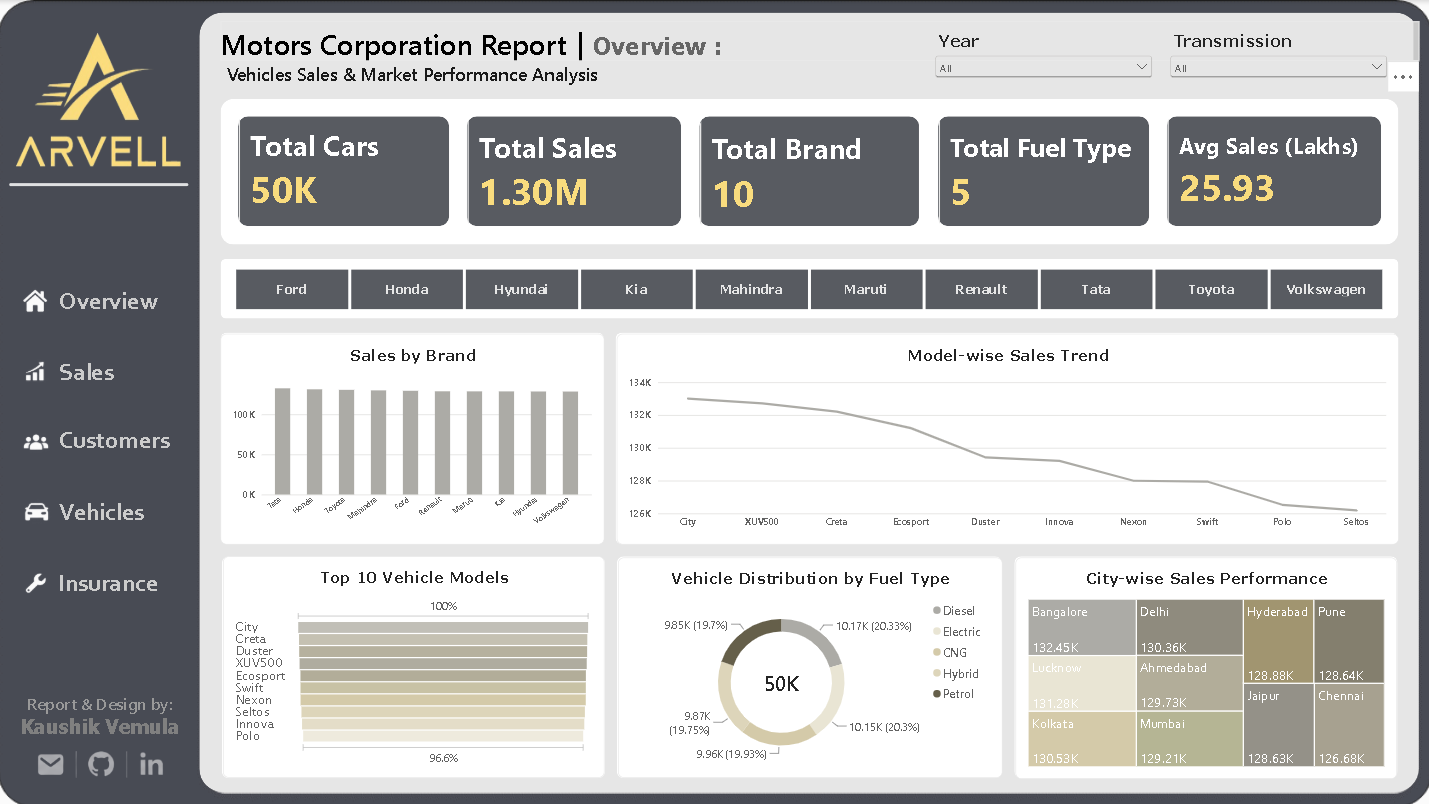

This screenshot's page, from the dashboard's own definition file:
{"tool":"powerbi","page":{"name":"Overview","canvas":[1920,1080],"ordinal":0},"visuals":[{"type":"shape","box":[269.9,17.5,1634,1044.6],"z":0},{"type":"shape","box":[297.6,132.8,1578.6,195.5],"z":1000},{"type":"shape","box":[321,156.1,283,147.4],"z":2000},{"type":"shape","box":[1565.5,156.1,287.4,147.4],"z":3000},{"type":"shape","box":[1259.1,156.1,283,147.4],"z":4000},{"type":"shape","box":[939.6,156.1,294.7,147.4],"z":5000},{"type":"shape","box":[627.4,156.1,287.4,147.4],"z":6000},{"type":"shape","box":[298.3,347.1,1578.5,80.2],"z":9000},{"type":"textbox","box":[298,28,1606,54],"z":12000},{"type":"textbox","box":[307.1,81.4,847.1,52.9],"z":13000},{"type":"image","box":[15,26.7,240,215],"z":14000},{"type":"shape","box":[15.7,191.4,240,112.9],"z":15000},{"type":"textbox","box":[16,928,240,66],"z":16000},{"type":"image","box":[16,994,240,62],"z":17000},{"type":"actionButton","box":[38.4,1004.7,66.3,40.1],"z":18000},{"type":"actionButton","box":[170.9,1004.7,66.3,40.1],"z":19000},{"type":"actionButton","box":[104.7,1004.7,66.3,40.1],"z":20000},{"type":"cardVisual","fields":{"Data":["Count(Master_Car_Data.Car_ID)"]},"box":[320.8,155.4,286.9,145.4],"z":21000},{"type":"cardVisual","fields":{"Data":["Sum(Master_Car_Data.Sale_Price_Lakh)"]},"box":[627.7,156.9,276.9,146.2],"z":22000},{"type":"cardVisual","fields":{"Data":["Count(Master_Car_Data.Brand)"]},"box":[940,158.8,293.8,146.2],"z":23000},{"type":"cardVisual","fields":{"Data":["Avg(Master_Car_Data.Sale_Price_Lakh)"]},"box":[1565.4,155.4,292.3,147.7],"z":24000},{"type":"cardVisual","fields":{"Data":["Count(Master_Car_Data.Fuel_Type)"]},"box":[1259.2,156.9,283.8,146.2],"z":25000},{"type":"textbox","box":[81.4,384.3,154.3,44.3],"z":26000},{"type":"textbox","box":[81.4,479.3,155,50],"z":27000},{"type":"textbox","box":[81.4,666.4,157.1,52.1],"z":28000},{"type":"textbox","box":[80.2,762.2,141.3,45.3],"z":29000},{"type":"textbox","box":[81.4,570,175,41.4],"z":30000},{"type":"image","box":[28.5,384.6,43.1,36.9],"z":31000},{"type":"image","box":[30.9,479.1,38.2,37.3],"z":32000},{"type":"image","box":[31,572,38,38],"z":33000},{"type":"image","box":[31.2,666.2,40,37.5],"z":34000},{"type":"image","box":[31.2,762.5,37.5,37.5],"z":35000},{"type":"actionButton","box":[30,473.3,141.7,48.3],"z":36000},{"type":"actionButton","box":[28,568,208,48],"z":37000},{"type":"actionButton","box":[28.6,661.4,175.7,48.6],"z":38000},{"type":"actionButton","box":[31.4,758.7,190.1,48.8],"z":39000},{"type":"actionButton","box":[25.7,378.6,195.7,48.6],"z":40000},{"type":"advancedSlicerVisual","fields":{"Values":["Master_Car_Data.Brand"]},"box":[298.3,360,1578.3,55],"z":41000},{"type":"slicer","fields":{"Values":["Master_Car_Data.Transmission"]},"box":[1566,42,300,66],"z":41001},{"type":"slicer","fields":{"Values":["Master_Car_Data.Year"]},"box":[1252,42,300,66],"z":41002},{"type":"shape","box":[298,446,514,282],"z":41003},{"type":"shape","box":[828,446,1048,284],"z":41004},{"type":"shape","box":[300,746,513.8,297.5],"z":41005},{"type":"shape","box":[828.6,745.7,516.2,297.5],"z":41006},{"type":"shape","box":[1361.4,745.7,513.8,297.5],"z":41007},{"type":"columnChart","title":"Sales by Brand","fields":{"Category":["Master_Car_Data.Brand"],"Y":["Sum(Master_Car_Data.Sale_Price_Lakh)"]},"box":[297.8,446.7,514.4,282.2],"z":41008},{"type":"lineChart","title":"Model-wise Sales Trend","fields":{"Category":["Master_Car_Data.Model"],"Y":["Sum(Master_Car_Data.Sale_Price_Lakh)"]},"box":[828.5,446.5,1048.3,282.6],"z":41009},{"type":"funnel","title":"Top 10 Vehicle Models","fields":{"Category":["Master_Car_Data.Model"],"Y":["Count(Master_Car_Data.Car_ID)"]},"box":[301.4,745.7,511.4,297.1],"z":41010},{"type":"donutChart","title":"Vehicle Distribution by Fuel Type","fields":{"Category":["Master_Car_Data.Fuel_Type"],"Y":["Count(Master_Car_Data.Car_ID)"]},"box":[830,746.7,515,295],"z":41011},{"type":"treemap","title":"City-wise Sales Performance","fields":{"Group":["Master_Car_Data.City"],"Values":["Sum(Master_Car_Data.Sale_Price_Lakh)"]},"box":[1362.9,747.1,511.4,297.1],"z":41012}]}

Visuals, with their boxes on the page's 1920x1080 design canvas (x1, y1, x2, y2). These are canvas units, not pixel positions in the 1429x804 screenshot, which may show the page scaled, cropped or inside an application window:
shape: x1=270, y1=18, x2=1904, y2=1062
shape: x1=298, y1=133, x2=1876, y2=328
shape: x1=321, y1=156, x2=604, y2=304
shape: x1=1566, y1=156, x2=1853, y2=304
shape: x1=1259, y1=156, x2=1542, y2=304
shape: x1=940, y1=156, x2=1234, y2=304
shape: x1=627, y1=156, x2=915, y2=304
shape: x1=298, y1=347, x2=1877, y2=427
textbox: x1=298, y1=28, x2=1904, y2=82
textbox: x1=307, y1=81, x2=1154, y2=134
image: x1=15, y1=27, x2=255, y2=242
shape: x1=16, y1=191, x2=256, y2=304
textbox: x1=16, y1=928, x2=256, y2=994
image: x1=16, y1=994, x2=256, y2=1056
actionButton: x1=38, y1=1005, x2=105, y2=1045
actionButton: x1=171, y1=1005, x2=237, y2=1045
actionButton: x1=105, y1=1005, x2=171, y2=1045
cardVisual - Count(Master_Car_Data.Car_ID): x1=321, y1=155, x2=608, y2=301
cardVisual - Sum(Master_Car_Data.Sale_Price_Lakh): x1=628, y1=157, x2=905, y2=303
cardVisual - Count(Master_Car_Data.Brand): x1=940, y1=159, x2=1234, y2=305
cardVisual - Avg(Master_Car_Data.Sale_Price_Lakh): x1=1565, y1=155, x2=1858, y2=303
cardVisual - Count(Master_Car_Data.Fuel_Type): x1=1259, y1=157, x2=1543, y2=303
textbox: x1=81, y1=384, x2=236, y2=429
textbox: x1=81, y1=479, x2=236, y2=529
textbox: x1=81, y1=666, x2=238, y2=718
textbox: x1=80, y1=762, x2=222, y2=808
textbox: x1=81, y1=570, x2=256, y2=611
image: x1=28, y1=385, x2=72, y2=422
image: x1=31, y1=479, x2=69, y2=516
image: x1=31, y1=572, x2=69, y2=610
image: x1=31, y1=666, x2=71, y2=704
image: x1=31, y1=762, x2=69, y2=800
actionButton: x1=30, y1=473, x2=172, y2=522
actionButton: x1=28, y1=568, x2=236, y2=616
actionButton: x1=29, y1=661, x2=204, y2=710
actionButton: x1=31, y1=759, x2=222, y2=808
actionButton: x1=26, y1=379, x2=221, y2=427
advancedSlicerVisual - Master_Car_Data.Brand: x1=298, y1=360, x2=1877, y2=415
slicer - Master_Car_Data.Transmission: x1=1566, y1=42, x2=1866, y2=108
slicer - Master_Car_Data.Year: x1=1252, y1=42, x2=1552, y2=108
shape: x1=298, y1=446, x2=812, y2=728
shape: x1=828, y1=446, x2=1876, y2=730
shape: x1=300, y1=746, x2=814, y2=1044
shape: x1=829, y1=746, x2=1345, y2=1043
shape: x1=1361, y1=746, x2=1875, y2=1043
"Sales by Brand" columnChart: x1=298, y1=447, x2=812, y2=729
"Model-wise Sales Trend" lineChart: x1=828, y1=446, x2=1877, y2=729
"Top 10 Vehicle Models" funnel: x1=301, y1=746, x2=813, y2=1043
"Vehicle Distribution by Fuel Type" donutChart: x1=830, y1=747, x2=1345, y2=1042
"City-wise Sales Performance" treemap: x1=1363, y1=747, x2=1874, y2=1044
